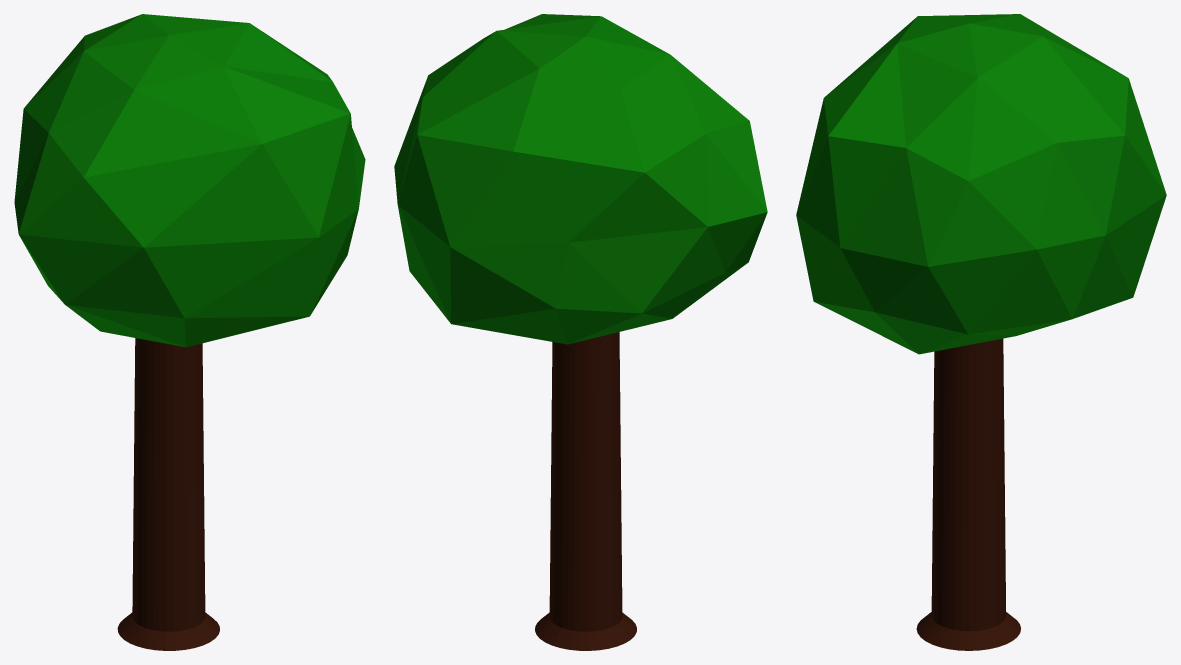
Rendered from tree.obj.
3 views of the same model, side by side, from view 1: azimuth 30°, elevation 25°; view 2: azimuth 150°, elevation 25°; view 3: azimuth 270°, elevation 25° (orthographic). The views are drawn at different scales.
Visible parts, largest first — view 1: Icosphere, Cylinder; view 2: Icosphere, Cylinder; view 3: Icosphere, Cylinder.
Part boxes in pixels (<box>): Icosphere: <box>14,14,365,347</box>; Cylinder: <box>117,338,219,650</box>; Icosphere: <box>394,14,767,344</box>; Cylinder: <box>535,332,636,650</box>; Icosphere: <box>796,14,1166,354</box>; Cylinder: <box>916,338,1020,650</box>.
Size of the model in its own units: 23.88 by 39.55 by 21.94.
